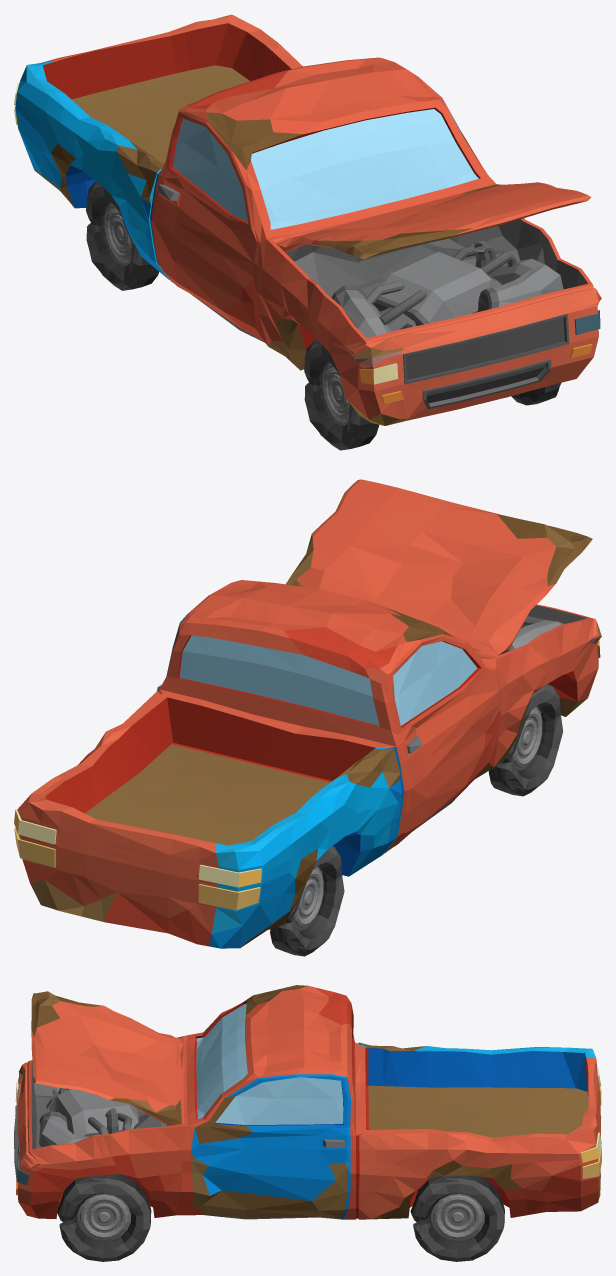
The model's file is pickup_2.obj.
The picture shows the model from 3 angles, top to bottom: view 1: azimuth 30°, elevation 25°; view 2: azimuth 150°, elevation 25°; view 3: azimuth 270°, elevation 25°; orthographic projection. The views are drawn at different scales.
Parts seen in each view (by area): view 1: car2_Material, engine_2_Material, car_wheel.006_Material, car_wheel.007_Material, car_wheel.009_Material; view 2: car2_Material, car_wheel.006_Material, car_wheel.007_Material, engine_2_Material; view 3: car2_Material, car_wheel.009_Material, car_wheel.008_Material, engine_2_Material.
Part boxes in pixels (x1,y1,x2,y2): car2_Material: (14,14,601,425); engine_2_Material: (331,244,563,338); car_wheel.006_Material: (304,338,379,450); car_wheel.007_Material: (86,181,158,290); car_wheel.009_Material: (511,382,561,405); car2_Material: (14,479,601,948); car_wheel.006_Material: (488,684,563,796); car_wheel.007_Material: (270,846,344,956); engine_2_Material: (499,616,563,654); car2_Material: (14,985,601,1219); car_wheel.009_Material: (57,1174,151,1261); car_wheel.008_Material: (410,1175,504,1261); engine_2_Material: (33,1082,138,1174).
Size of the model in its own units: 2.08 by 1.93 by 5.08.
